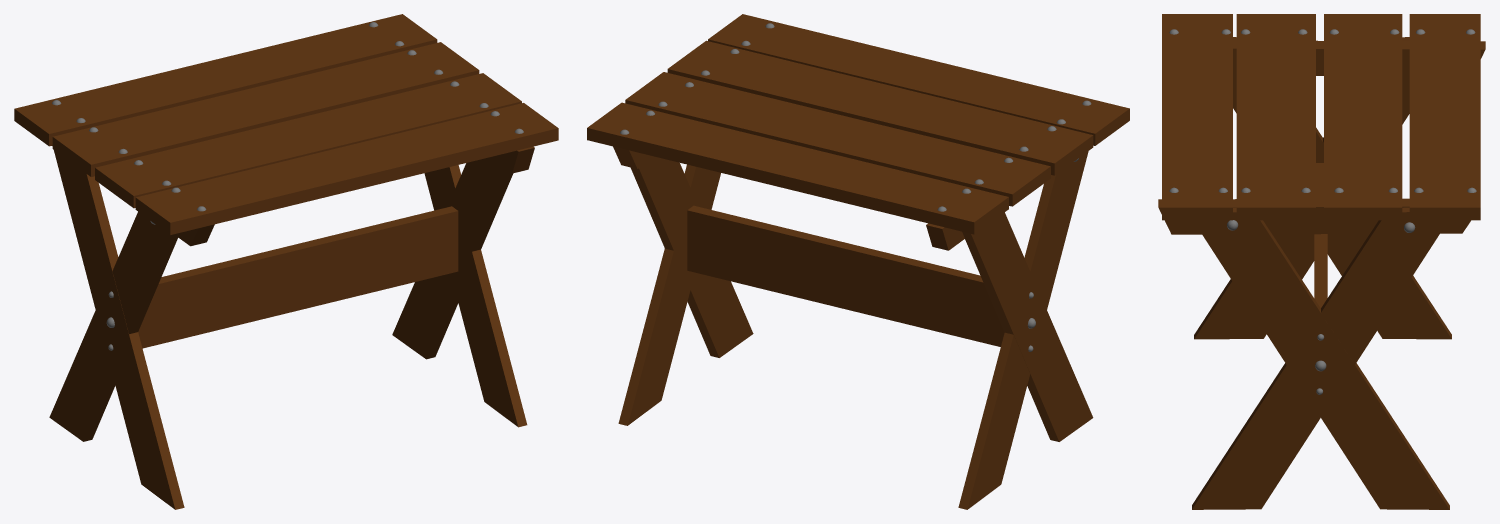
The model's file is Picture1.glb.
3 views of the same model, side by side, from view 1: azimuth 30°, elevation 25°; view 2: azimuth 150°, elevation 25°; view 3: azimuth 270°, elevation 25° (orthographic). The views are drawn at different scales.
Size of the model in its own units: 571 by 431 by 408.
